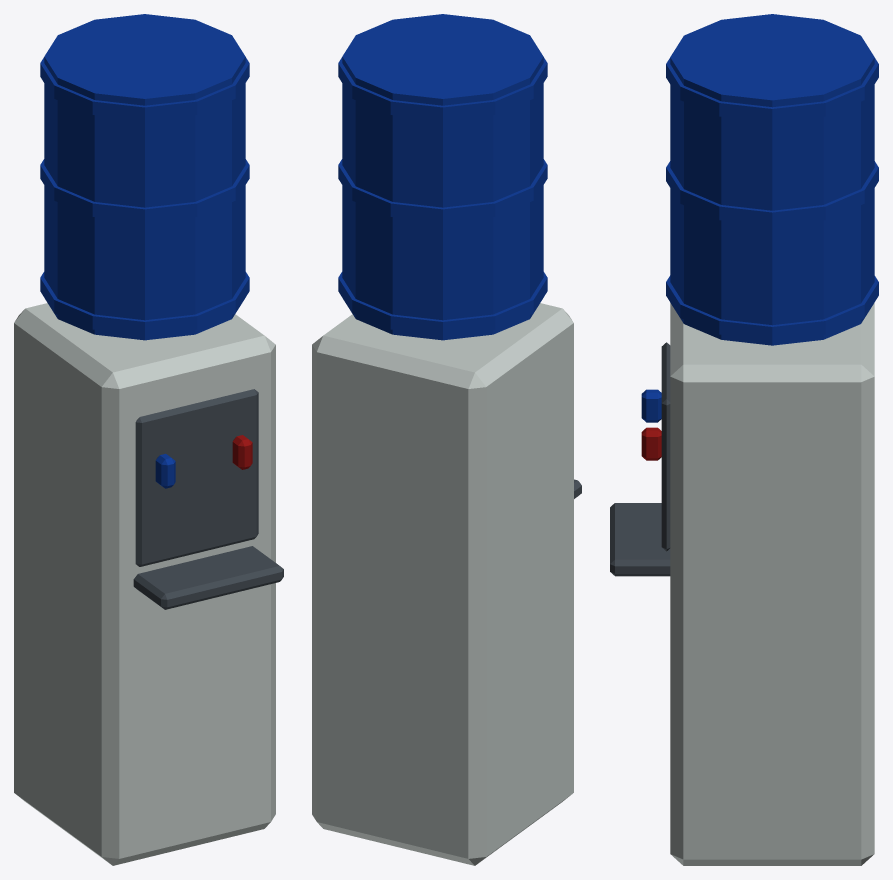
File: WaterCooler.fbx
The picture shows the model from 3 angles, left to right: view 1: azimuth 30°, elevation 25°; view 2: azimuth 150°, elevation 25°; view 3: azimuth 270°, elevation 25°; orthographic projection.
Parts seen in each view (by area): view 1: WaterCooler; view 2: WaterCooler; view 3: WaterCooler.
Part boxes in pixels (x1,y1,x2,y2): WaterCooler: (14,14,283,865); WaterCooler: (312,14,581,865); WaterCooler: (610,14,878,865).
Bounding box in the file's own units: 35.4 × 142 × 44.7.
Materials: 1 (1 with a texture image).
